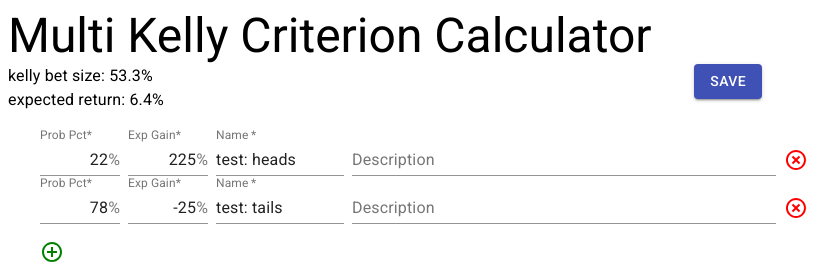
kelly editor › shows error when percentages don't add to 100
The width and height of the screenshot is (823, 279).
Replace the text in the 1st number field showing "22" with "21": (74, 160) top-left (40, 144), bottom-right (108, 176)
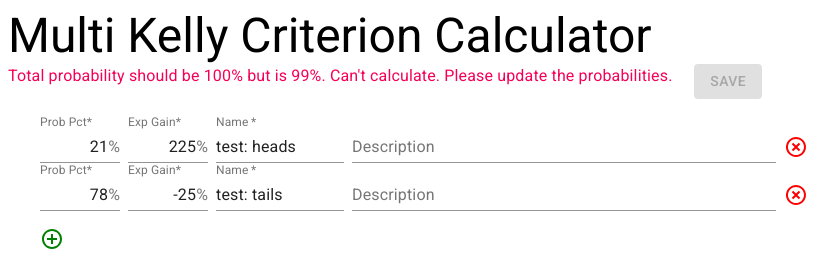
Now the text "Total probability should be 100% but is 99%. Can't calculate. Please update the probabilities." is shown, box top-left (8, 66), bottom-right (672, 85)
Now the button "Save" is disabled, box top-left (694, 64), bottom-right (762, 99)
